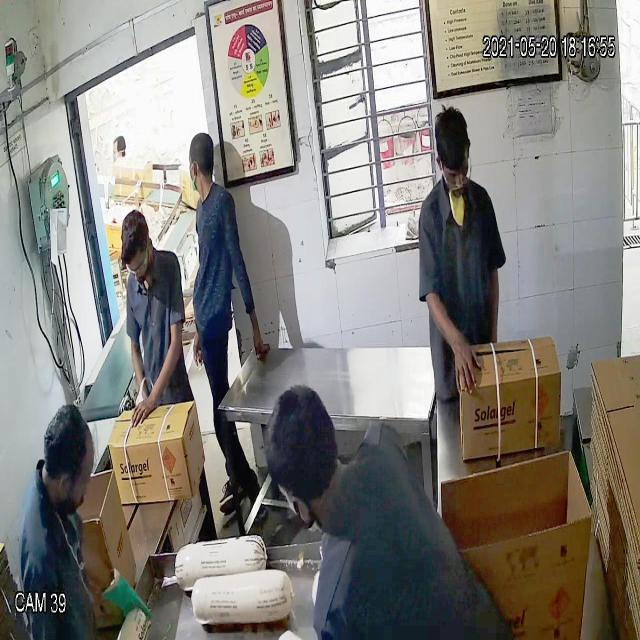glasses: (120, 252, 155, 282)
